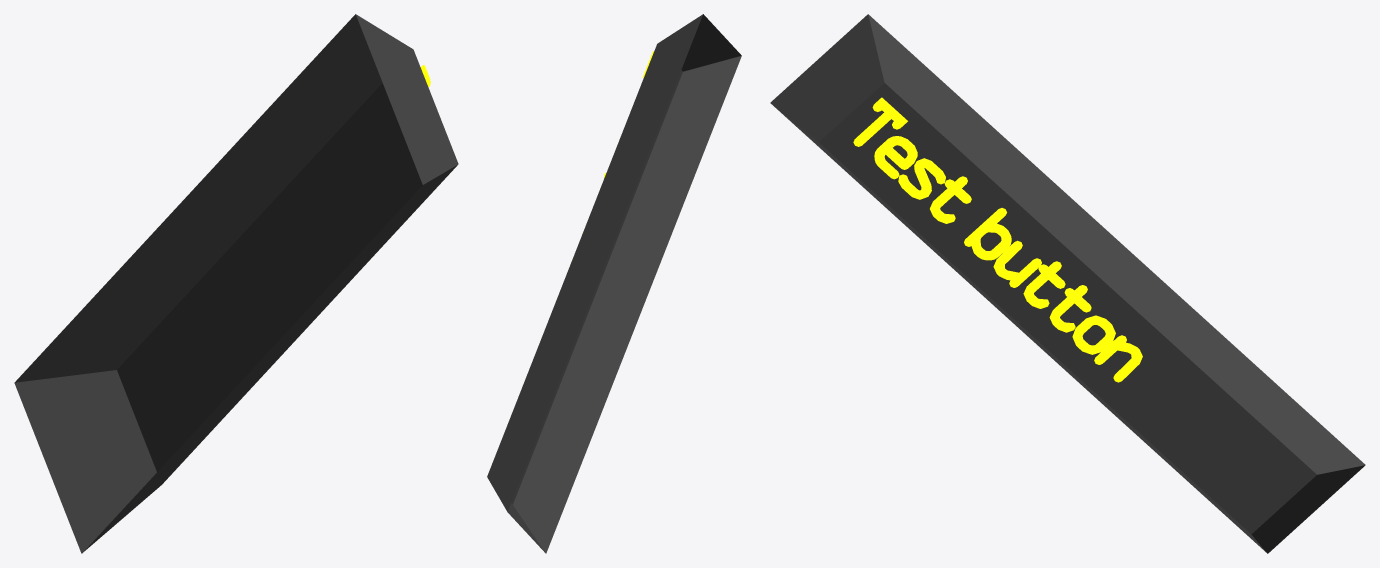
Rendered from test-button.glb.
3 views of the same model, side by side, from view 1: azimuth 30°, elevation 25°; view 2: azimuth 150°, elevation 25°; view 3: azimuth 270°, elevation 25° (orthographic). The views are drawn at different scales.
Parts seen in each view (by area): view 1: Plane.003; view 2: Plane.003; view 3: Plane.003, test button.
Boxes of the visible parts, left/top/right/bottom form: Plane.003: left=14, top=14, right=458, bottom=553; Plane.003: left=487, top=14, right=741, bottom=553; Plane.003: left=770, top=14, right=1365, bottom=553; test button: left=853, top=97, right=1142, bottom=382.
Bounding box in the file's own units: 0.0157 × 0.1401 × 0.1401.
